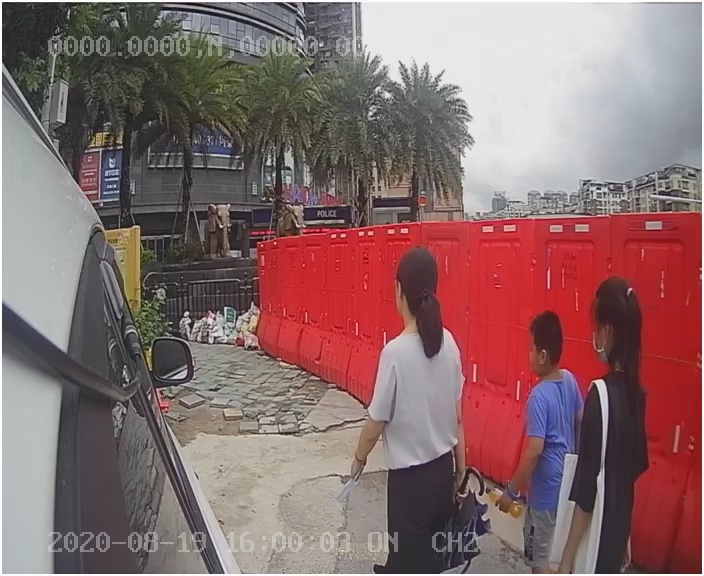person: (353, 248, 489, 527)
